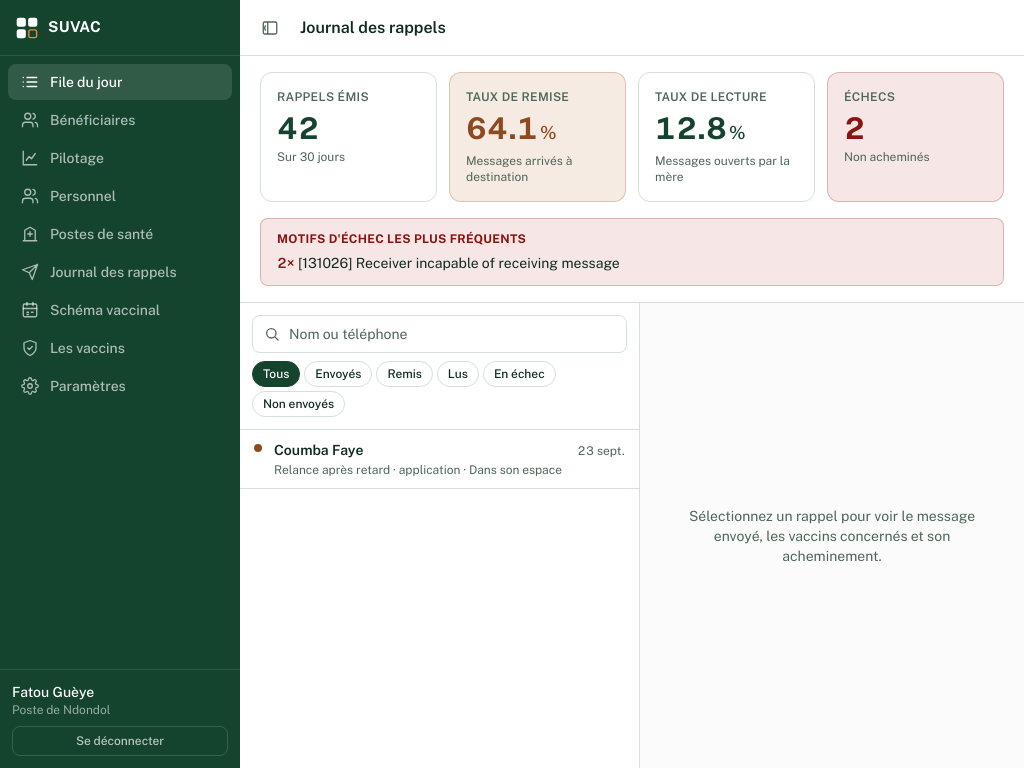
Test: JournalRappels › distingue un rappel consultable dans l'espace de la mère
Step 1. Click the text "Coumba Faye" → (319, 450), box x1=274 y1=440 x2=363 y2=460
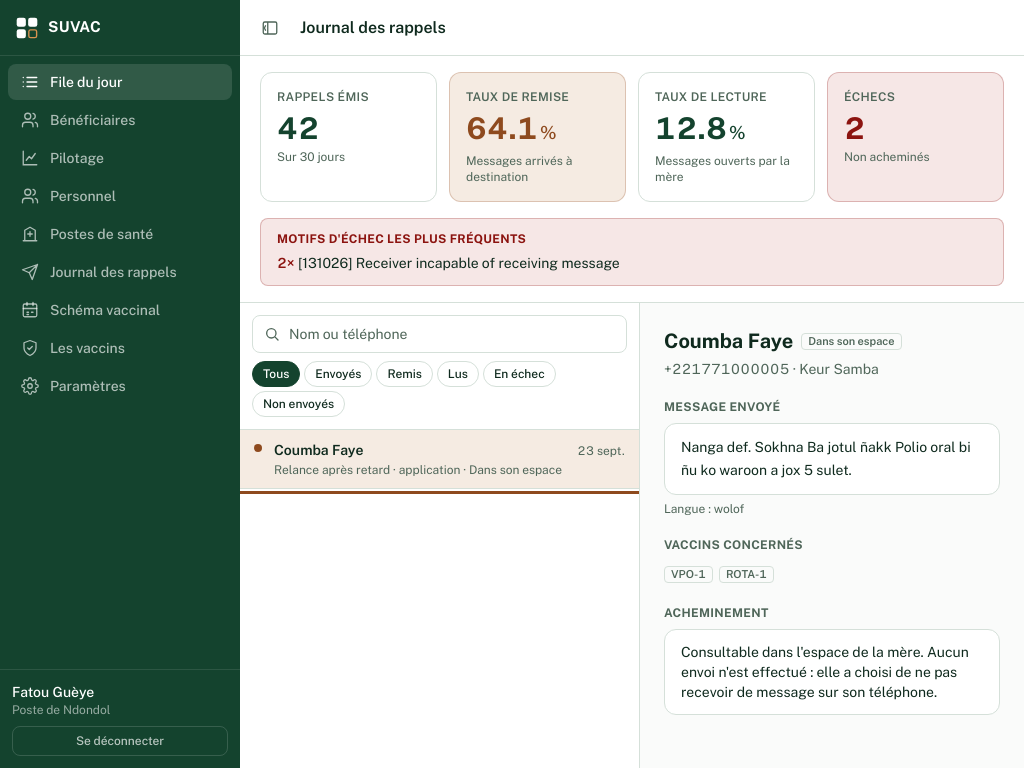
Check: the text "Consultable dans l'espace de la mère" is shown, box x1=681 y1=644 x2=969 y2=700
